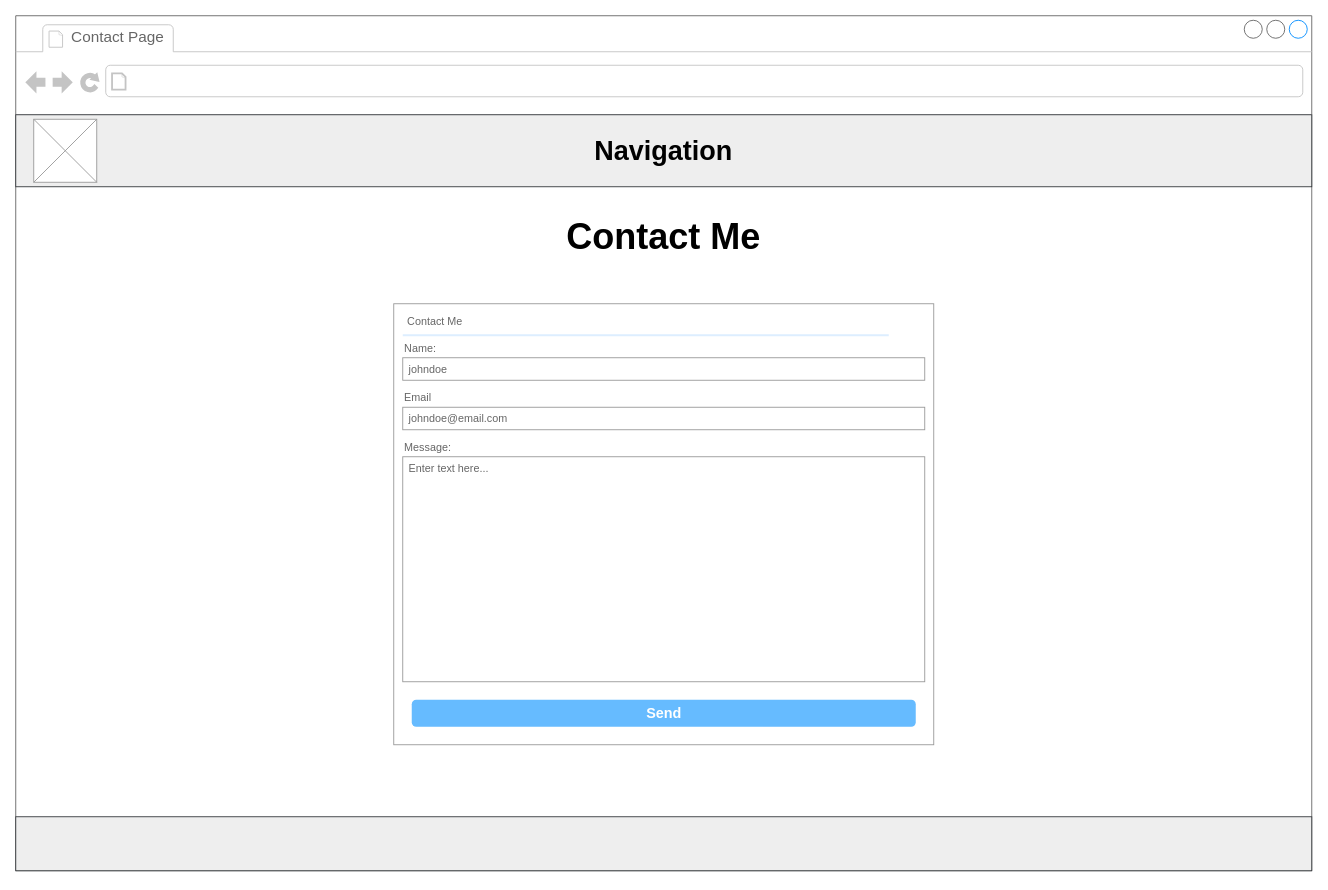
Some shapes in this 1328 by 890 pixel diagram are drawn without their labels. The centre of each missing label's shape, as x and y in pixels:
"Footer" belongs at (x=663, y=843).
"https://dev.screencraft.net.au/s/sullivja/contact.html" belongs at (x=245, y=81).
